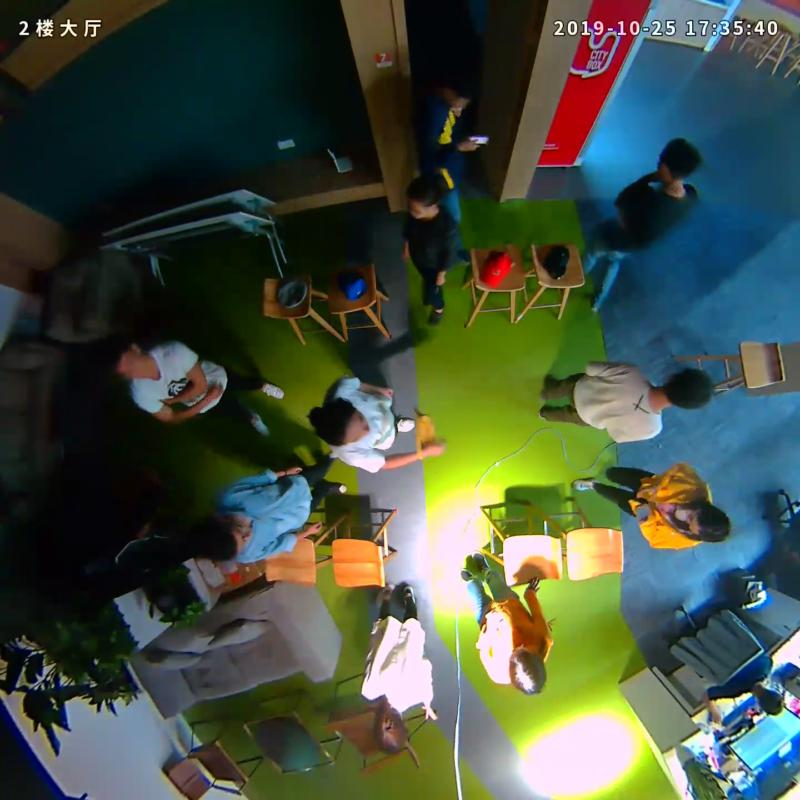head: (194, 511, 254, 559), (317, 400, 372, 447), (663, 369, 715, 411), (657, 138, 703, 185), (406, 173, 449, 217), (507, 649, 548, 695), (373, 706, 410, 755), (107, 335, 148, 378), (446, 65, 486, 109), (685, 504, 730, 543)
